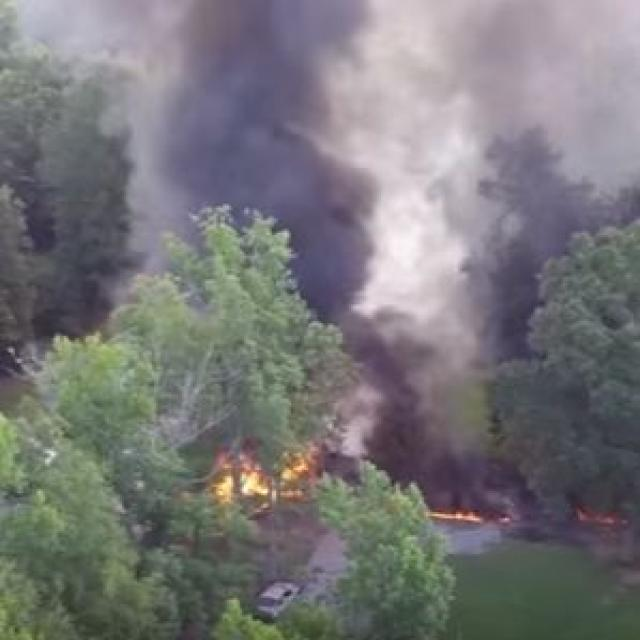Fire: (269, 446, 340, 517), (207, 455, 271, 509), (419, 492, 500, 528), (574, 493, 640, 531)
Smoke: (42, 0, 503, 236), (218, 36, 615, 278)
